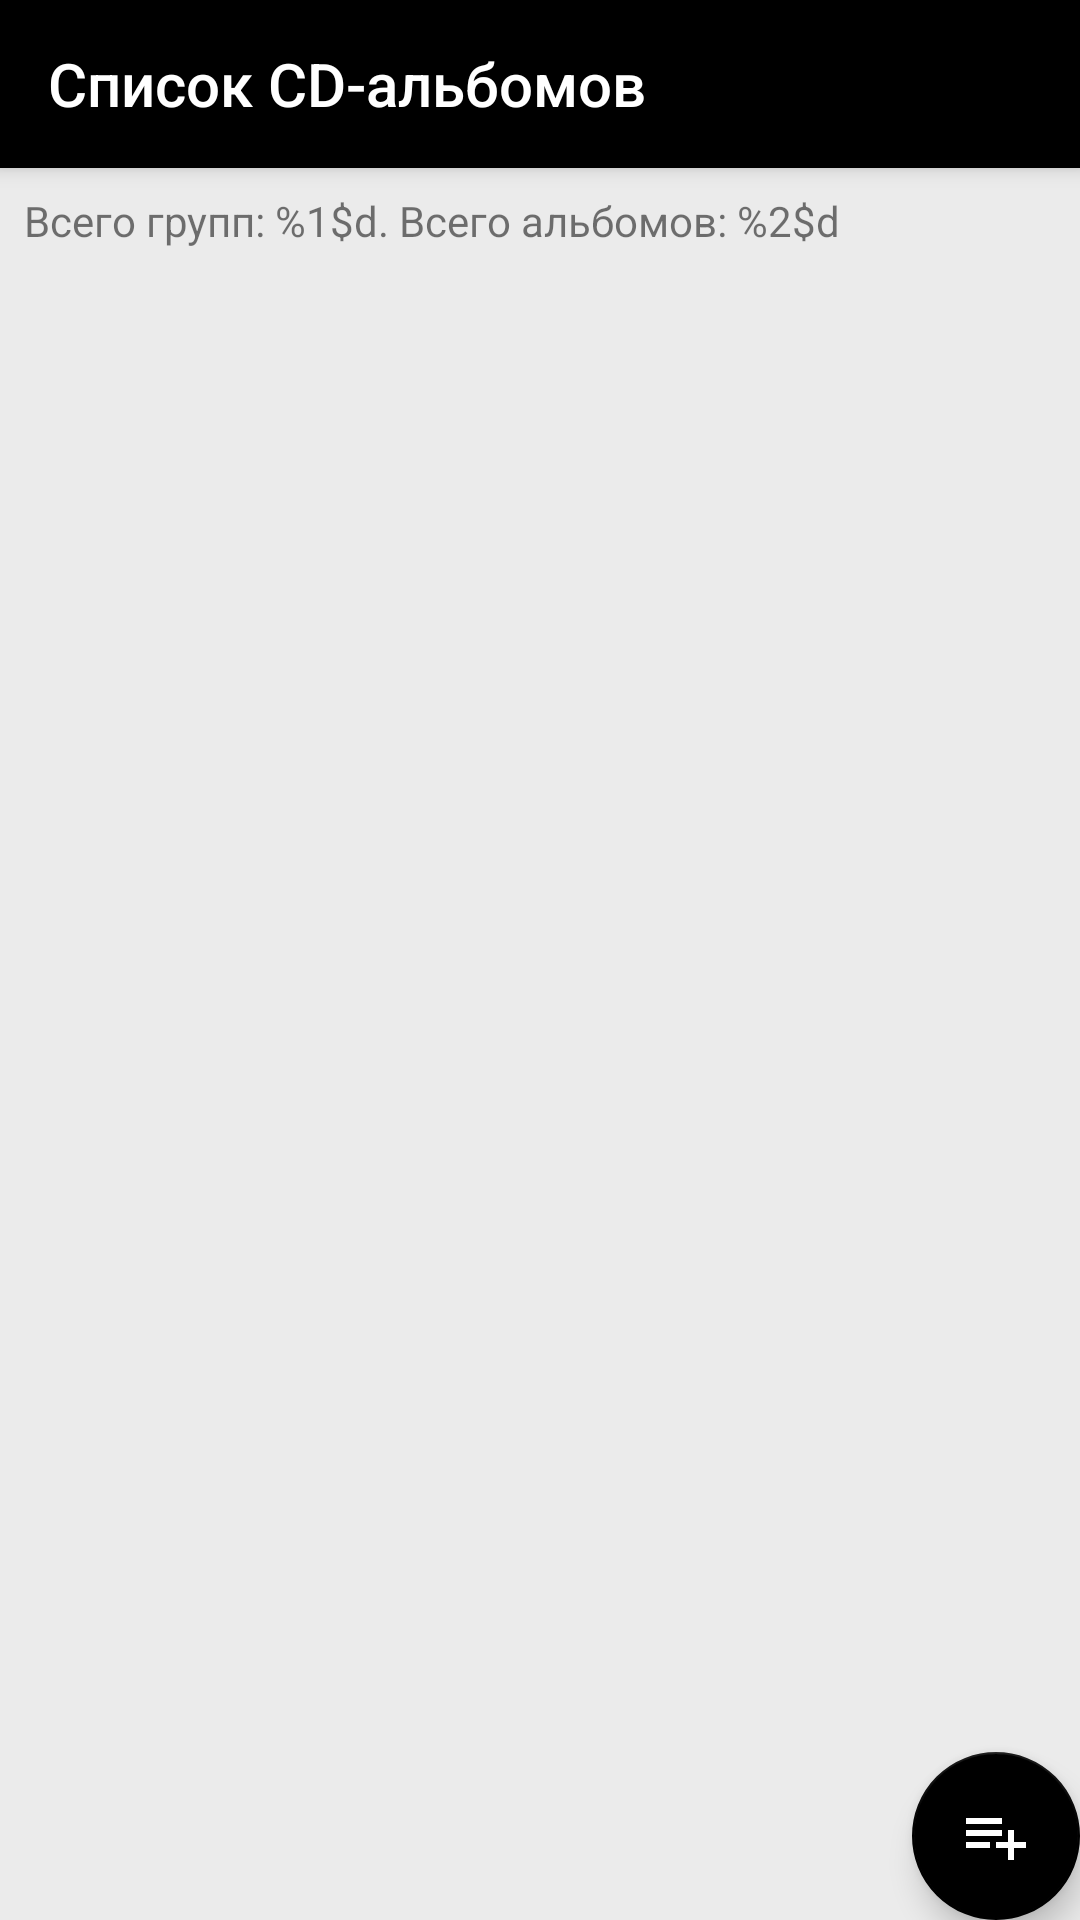

Where to tap for icons on this 1080×1920 app screen, as [x,y]:
Добавить альбом: [996,1836]
